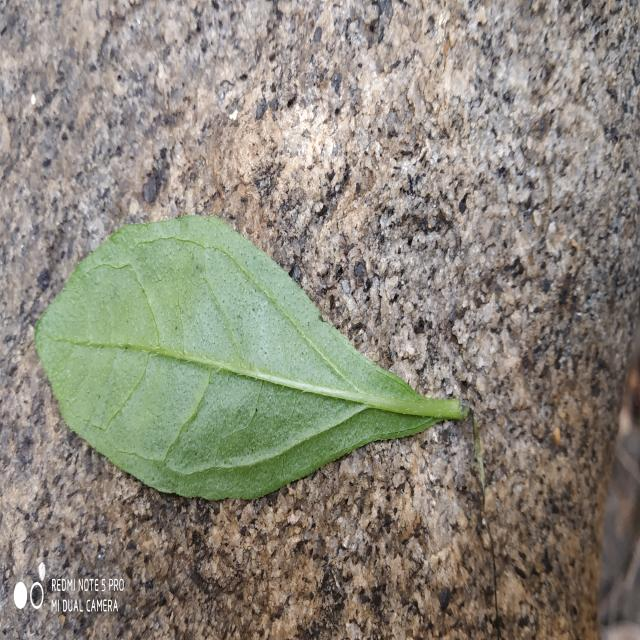bringaraja: (35, 215, 469, 500)
